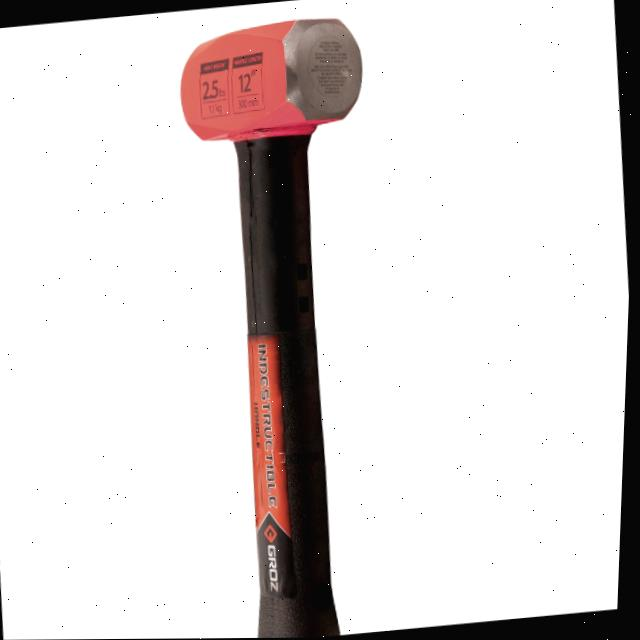hammer: (147, 3, 425, 639)
